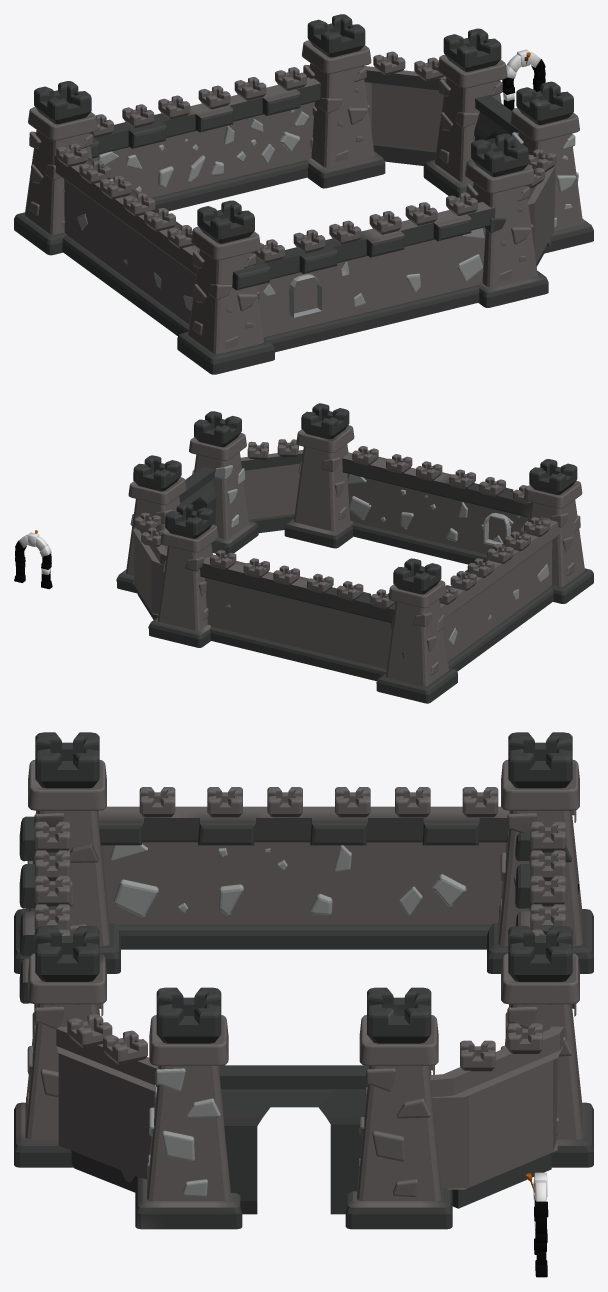
The model's file is Castle Wall.fbx.
3 renders of one model, top to bottom at view 1: azimuth 30°, elevation 25°; view 2: azimuth 150°, elevation 25°; view 3: azimuth 270°, elevation 25°, orthographic. The views are drawn at different scales.
Visible parts, largest first — view 1: Cube.008; view 2: Cube.008; view 3: Cube.008.
Part boxes in pixels (x1,y1,x2,y2): Cube.008: (14,14,593,374); Cube.008: (116,403,593,703); Cube.008: (14,732,593,1229).
Bounding box in the file's own units: 11464 × 3039 × 7725.
